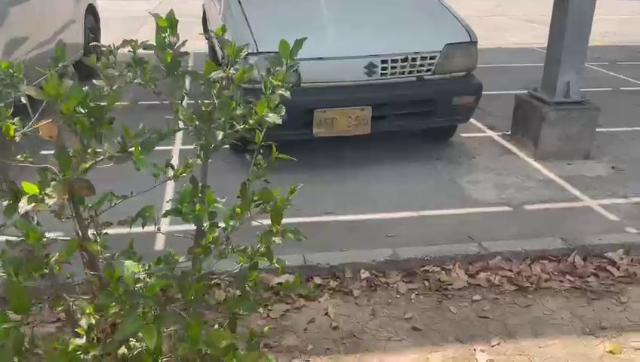plate: (311, 102, 384, 138)
